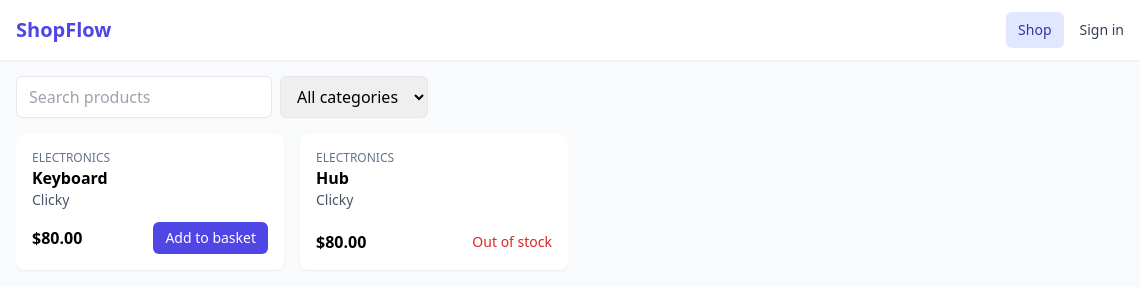
Test: shop › lists products, filters, and sends anonymous buyers to sign in
The width and height of the screenshot is (1140, 287).
Expected: the element "Keyboard" is shown, [16,134,284,270]
Expected: the text "Out of stock" is shown, [472,232,552,252]
Select "Books" in the dropdown named "Category": (354, 97) [280,76,428,118]
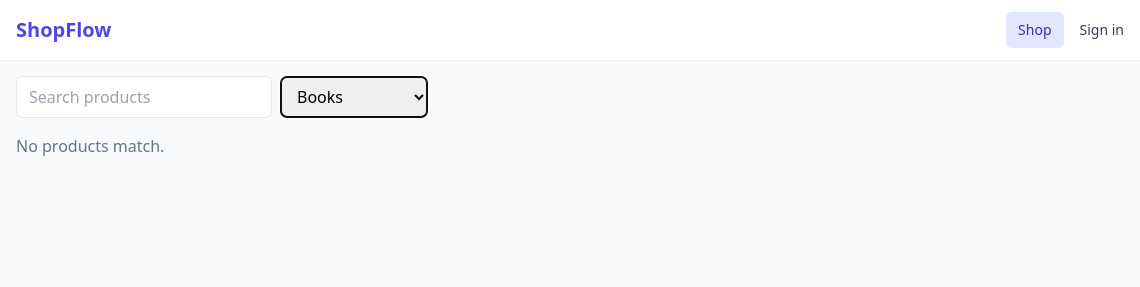
Now the text "No products match." is shown, box [16,135,164,157]
